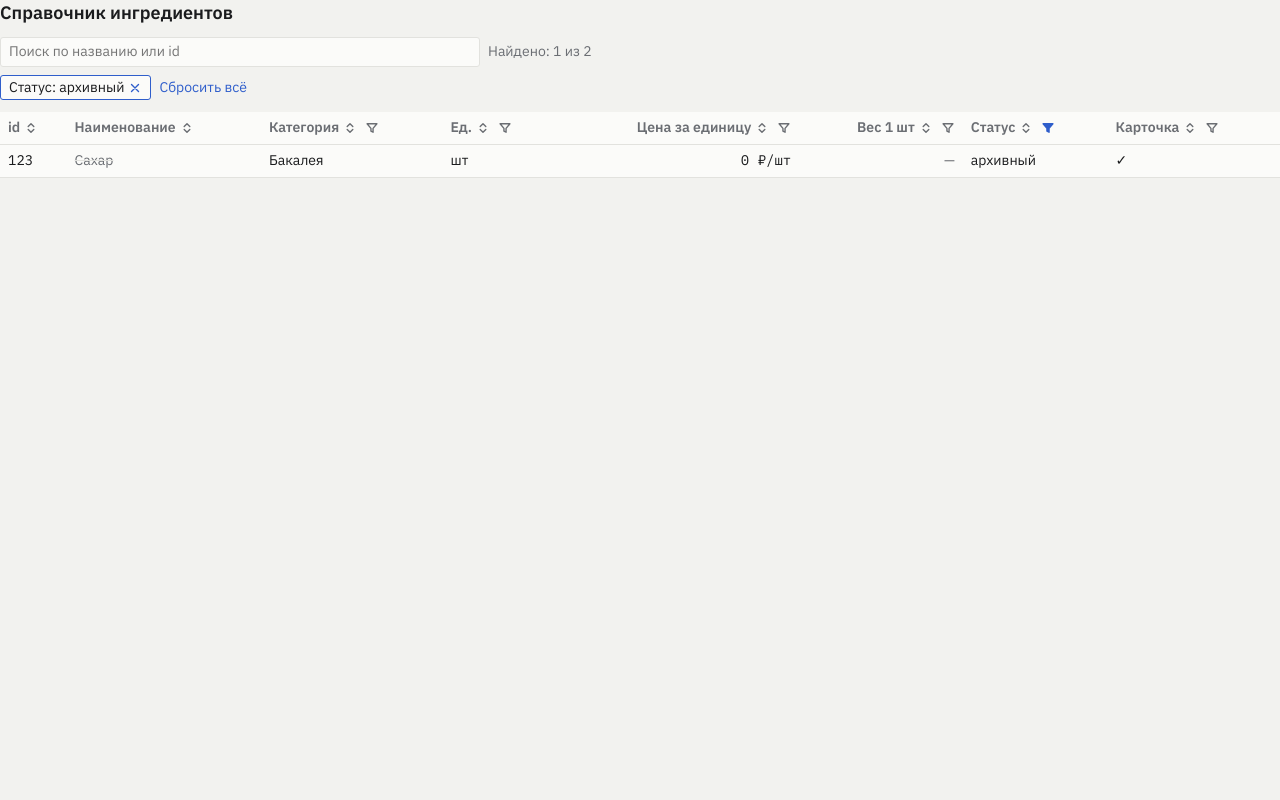
Test case: старая ссылка ?status=архивный открывает отобранный список, варианты статуса — полные
Expected: the text "Сахар" is shown once, [74,151,113,169]
Expected: the text "123" is shown, [0,144,66,177]
Click the button named "Фильтр: Статус, выбрано 1": (1048,128) [1038,117,1060,139]
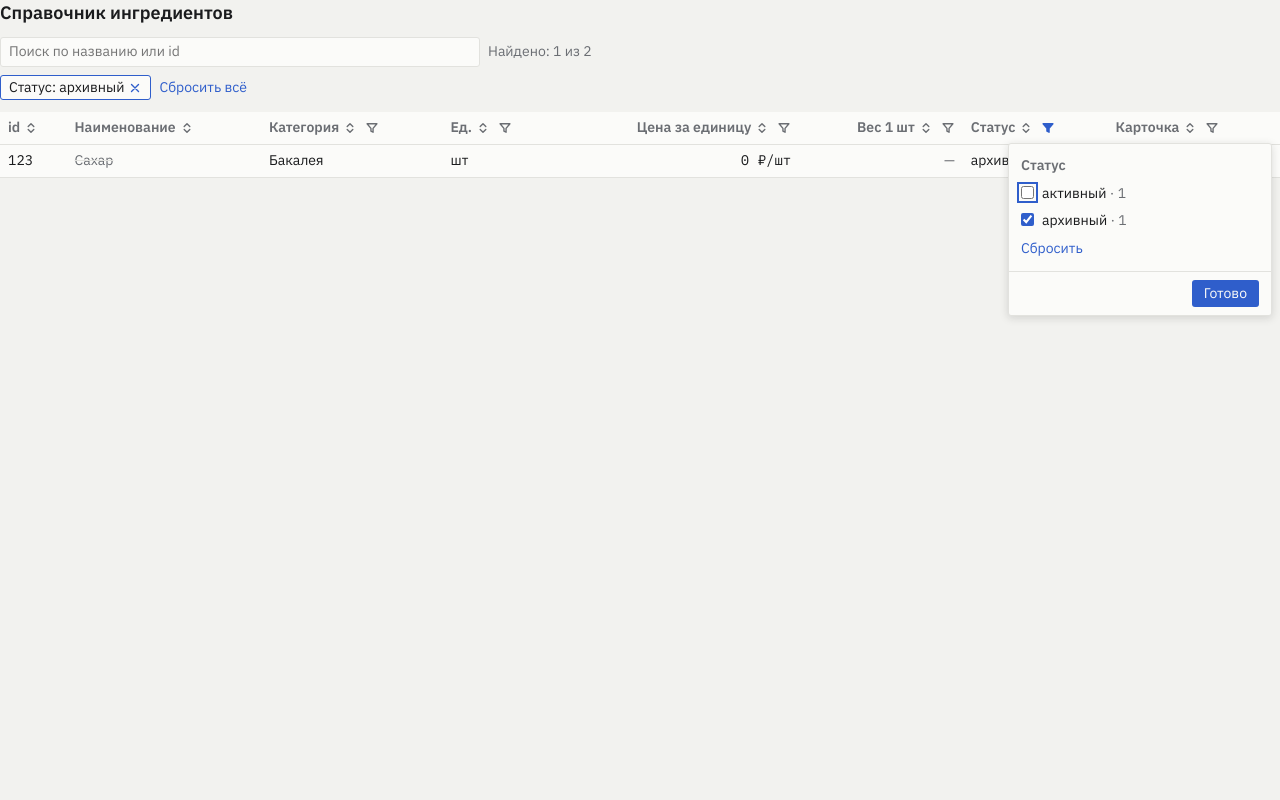
Result: the checkbox labelled "архивный · 1" is checked at [1021,213,1034,226]
